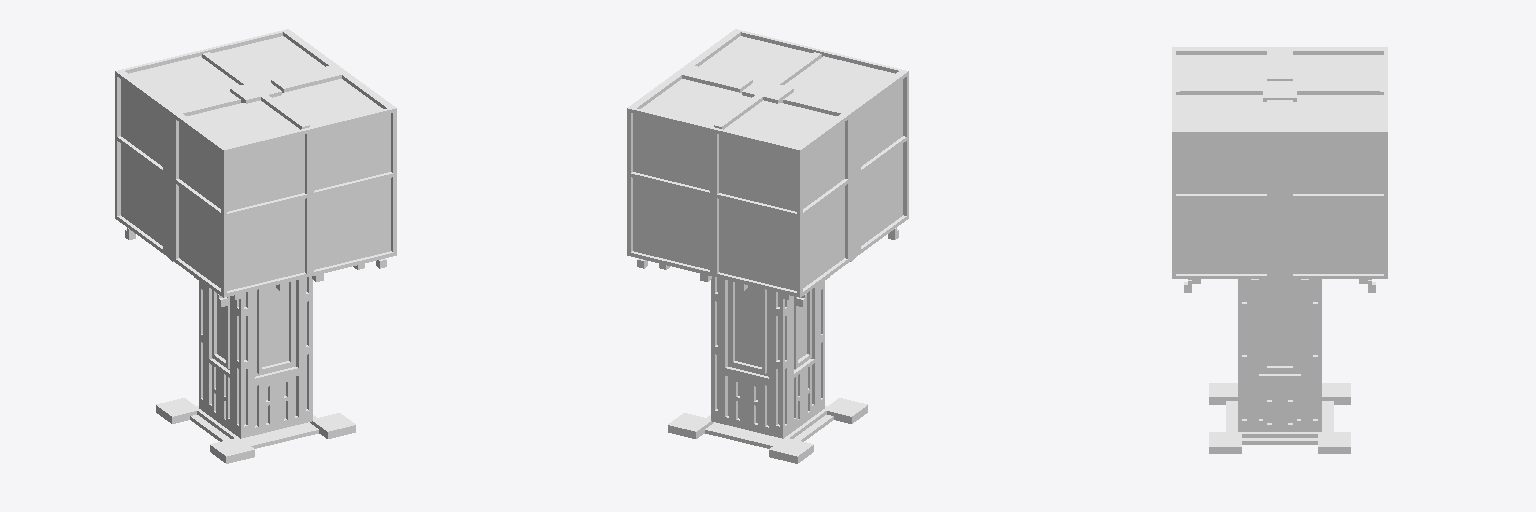
Rendered from APRIX_CONCEPTART06_TREEGOOD.obj.
3 renders of one model, left to right at view 1: azimuth 30°, elevation 25°; view 2: azimuth 150°, elevation 25°; view 3: azimuth 270°, elevation 25°, orthographic.
Size of the model in its own units: 48 by 88 by 52.